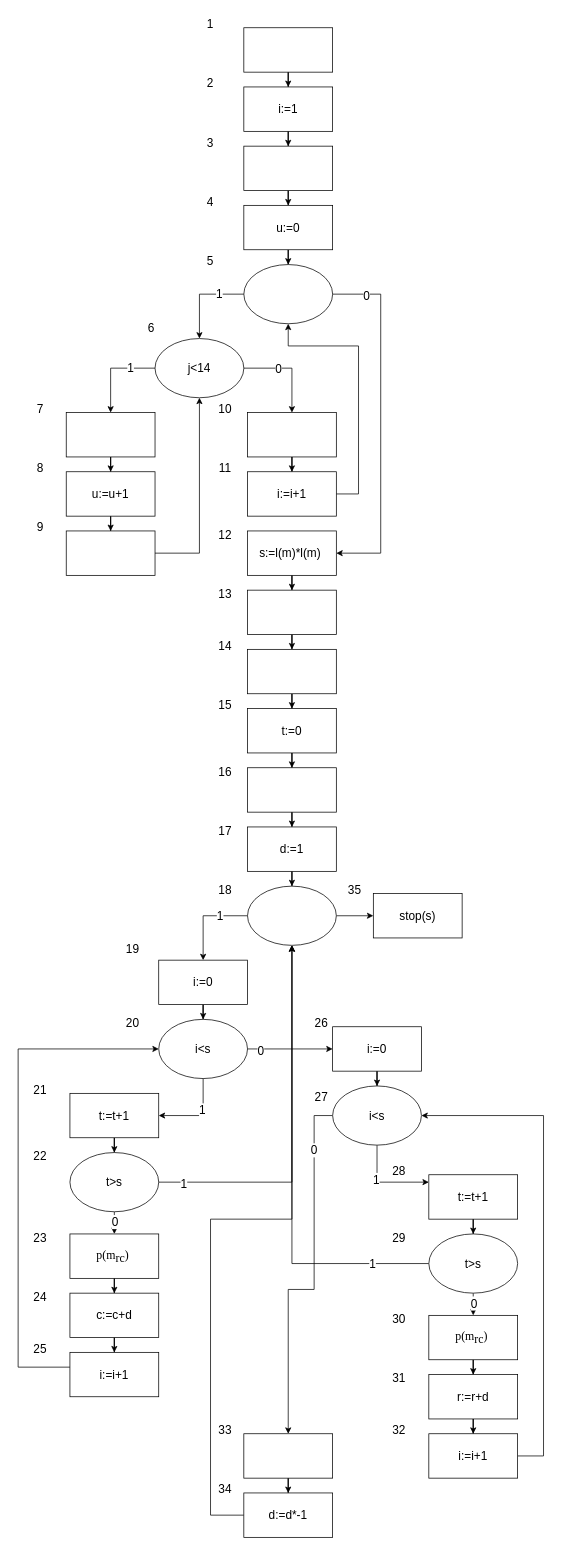
This 562x1550 diagram has some shape labels left out. Here are the shapes that lost their labels. From the top down, the box of each, then its label:
(243, 27, 333, 72): start(s)
(243, 145, 333, 191): j:=1
(243, 264, 333, 324): i<14
(65, 412, 155, 457): m ij :=c
(247, 412, 336, 457): j:=0
(65, 530, 155, 575): j:=j+1
(247, 589, 336, 635): r:=l(m)/2
(247, 649, 336, 694): c:=l(m)/2
(247, 767, 336, 812): s:=1
(247, 885, 336, 945): t≤s
(243, 1433, 333, 1478): s:=s+1
